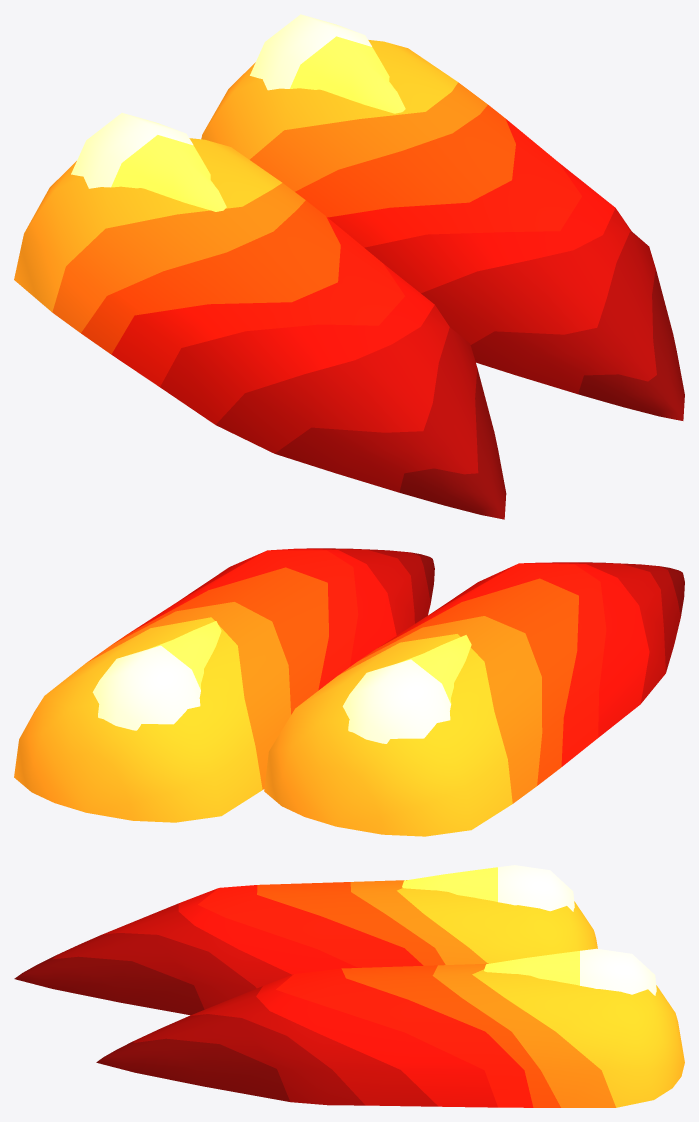
File: shot_pulse_h2r.glb
3 renders of one model, top to bottom at view 1: azimuth 30°, elevation 25°; view 2: azimuth 150°, elevation 25°; view 3: azimuth 270°, elevation 25°, orthographic. The views are drawn at different scales.
Visible parts, largest first — view 1: shot_pulse_h2r_bolt1, shot_pulse_h2r_bolt0, shot_pulse_h2r_core0, shot_pulse_h2r_core1; view 2: shot_pulse_h2r_bolt1, shot_pulse_h2r_bolt0, shot_pulse_h2r_core0, shot_pulse_h2r_core1; view 3: shot_pulse_h2r_bolt0, shot_pulse_h2r_bolt1, shot_pulse_h2r_core1, shot_pulse_h2r_core0.
Boxes of the visible parts, x1=… form: shot_pulse_h2r_bolt1: x1=14, y1=138, x2=506, y2=519; shot_pulse_h2r_bolt0: x1=201, y1=40, x2=684, y2=420; shot_pulse_h2r_core0: x1=250, y1=14, x2=405, y2=113; shot_pulse_h2r_core1: x1=71, y1=113, x2=226, y2=211; shot_pulse_h2r_bolt1: x1=264, y1=562, x2=684, y2=836; shot_pulse_h2r_bolt0: x1=14, y1=548, x2=434, y2=822; shot_pulse_h2r_core0: x1=92, y1=621, x2=221, y2=730; shot_pulse_h2r_core1: x1=342, y1=635, x2=471, y2=743; shot_pulse_h2r_bolt0: x1=96, y1=963, x2=684, y2=1107; shot_pulse_h2r_bolt1: x1=14, y1=880, x2=597, y2=1015; shot_pulse_h2r_core1: x1=402, y1=865, x2=574, y2=911; shot_pulse_h2r_core0: x1=484, y1=948, x2=656, y2=995.
Size of the model in its own units: 7.7 by 2.24 by 12.53.
